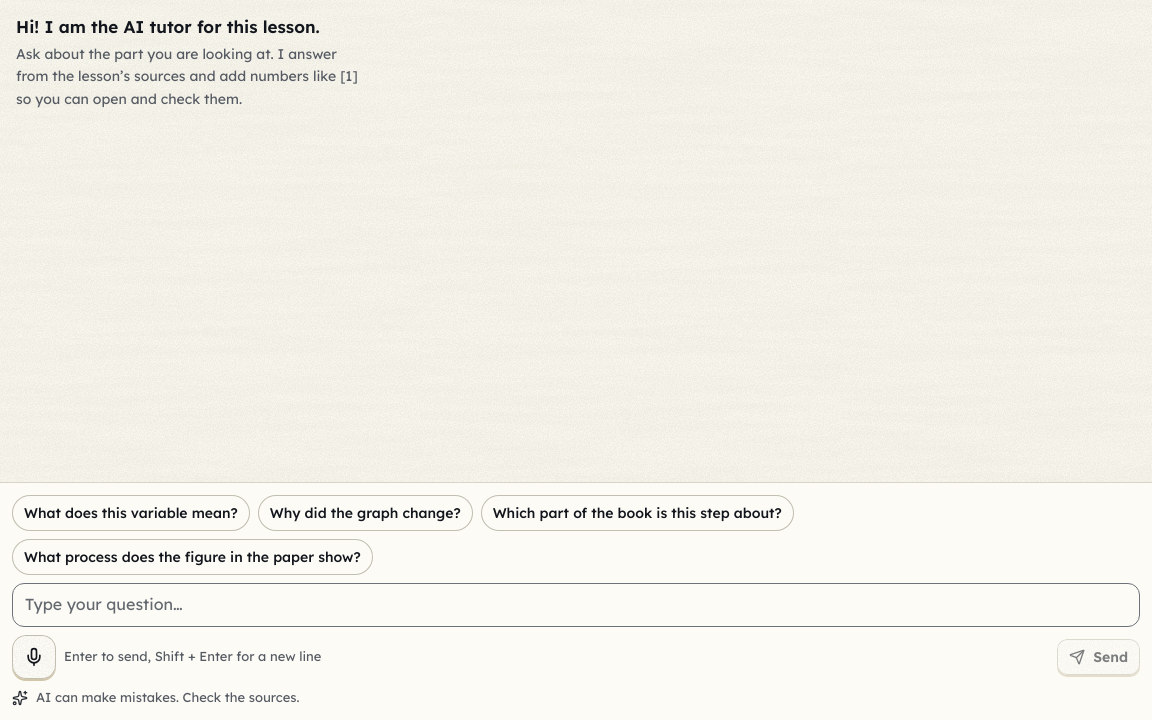
TutorPanel › starts empty when the lesson changes instead of keeping the last lesson’s question
Type "Question about lesson A" into the text box.
click(576, 605); type("Question about lesson A")  # box [12, 583, 1140, 627]
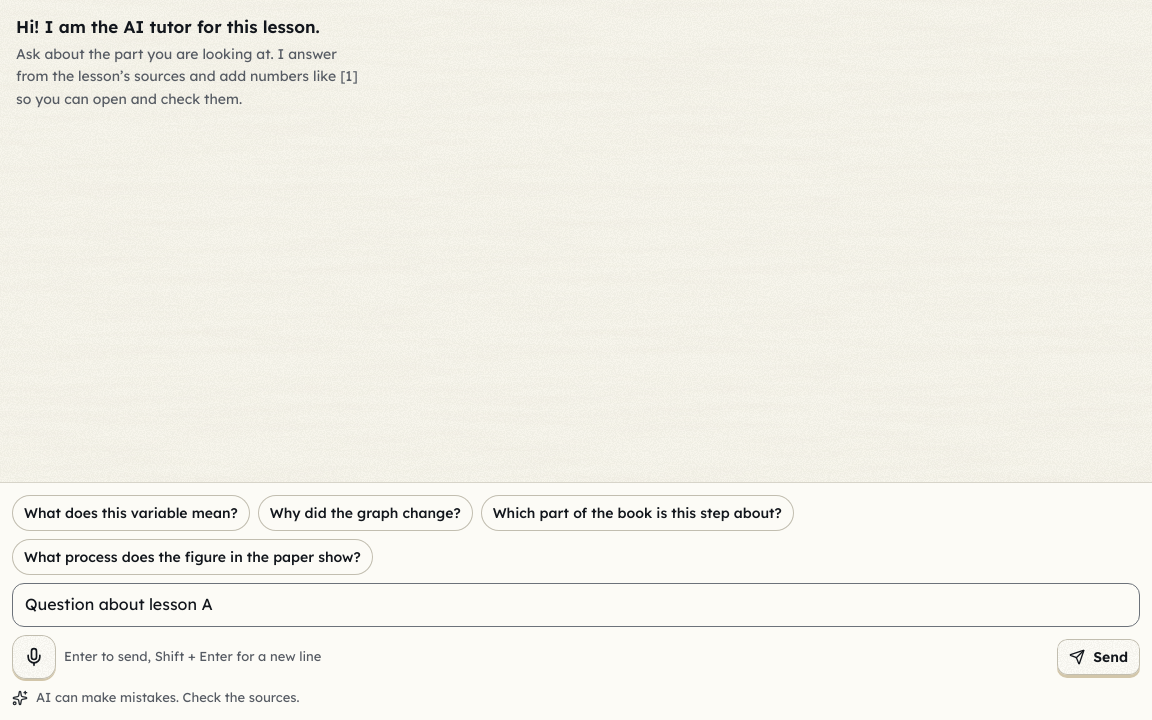
Submit the form, box [12, 583, 1140, 679]
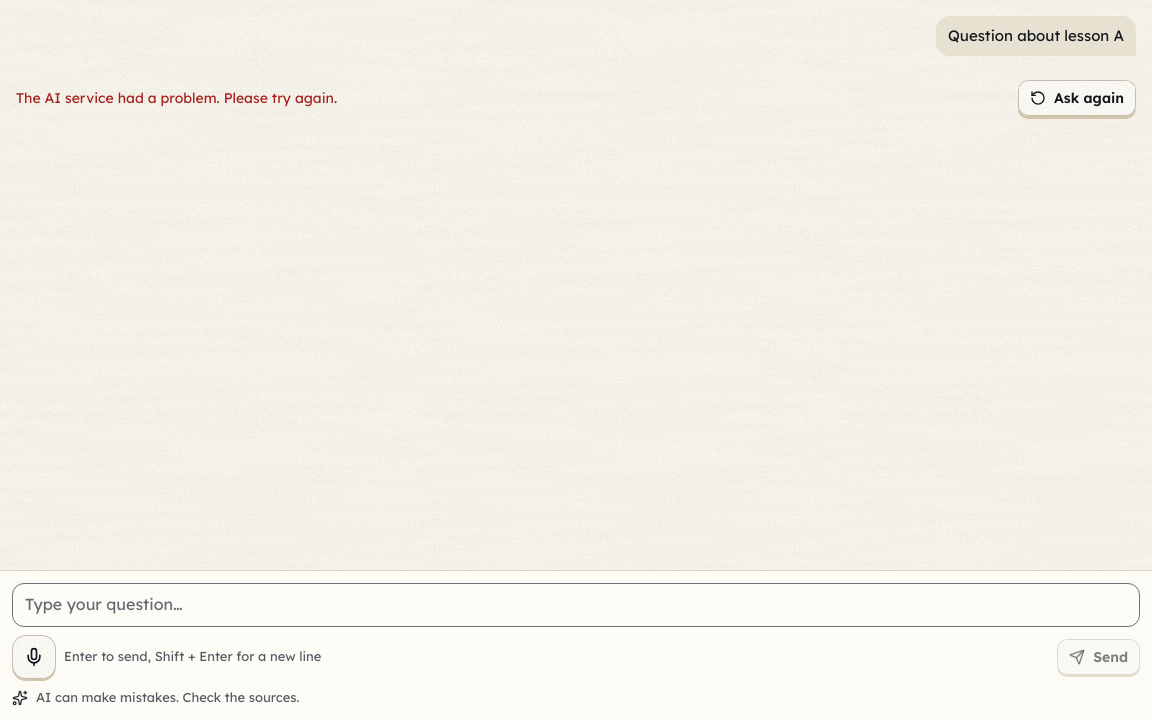
Check: the text "Question about lesson A" is shown, box [948, 24, 1124, 48]
